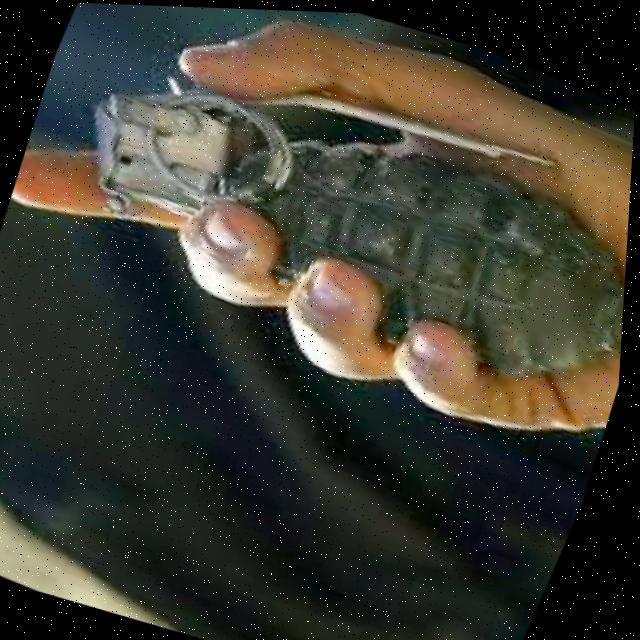grenade: (25, 1, 640, 426)
